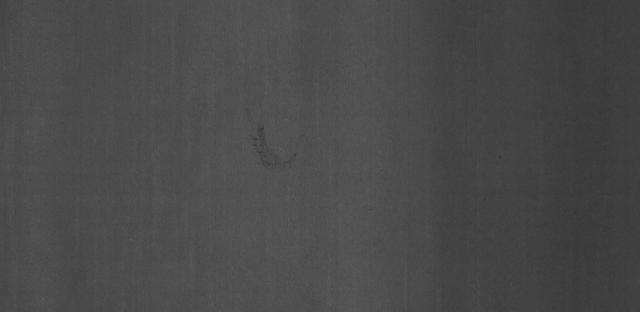water_spot: (242, 112, 310, 183)
